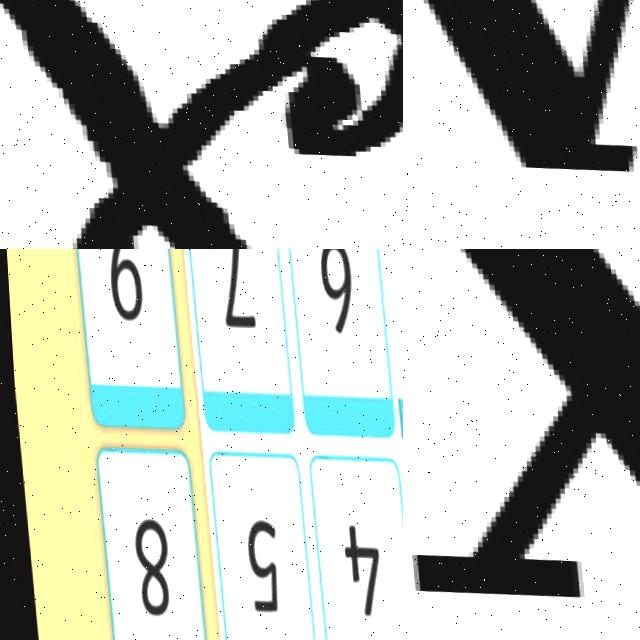4: (334, 513, 381, 619)
5: (235, 510, 278, 616)
6: (313, 249, 356, 335)
7: (212, 249, 257, 331)
8: (123, 514, 169, 619)
9: (99, 249, 145, 324)
N: (403, 0, 640, 203)
X: (0, 0, 403, 249), (403, 249, 640, 626)
